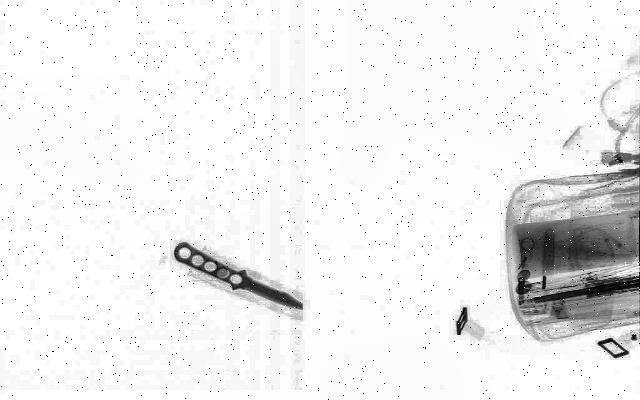Knife: (165, 243, 313, 315)
